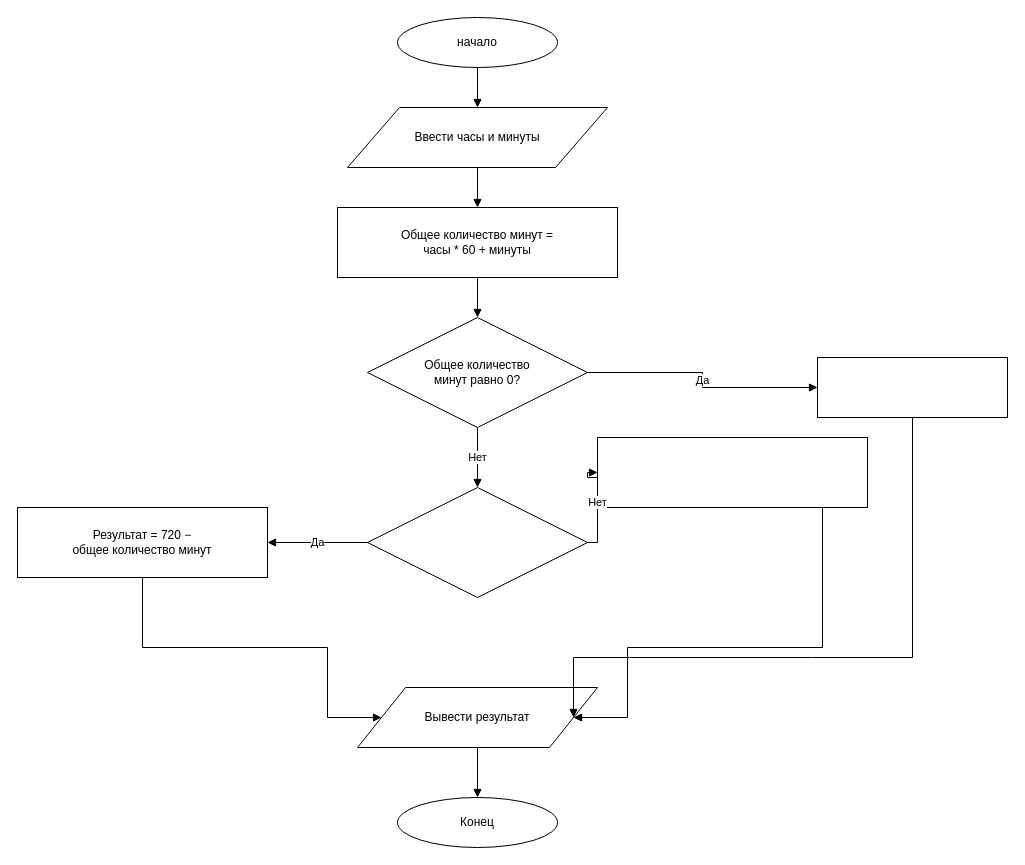
This 1025x865 diagram has some shape labels left out. The centre of each missing label's shape, as x and y in pixels:
Общее количество минут не больше 720?: pixel 477 542
Результат = 0: pixel 912 387
Результат = 1440 − общее количество минут: pixel 732 472
